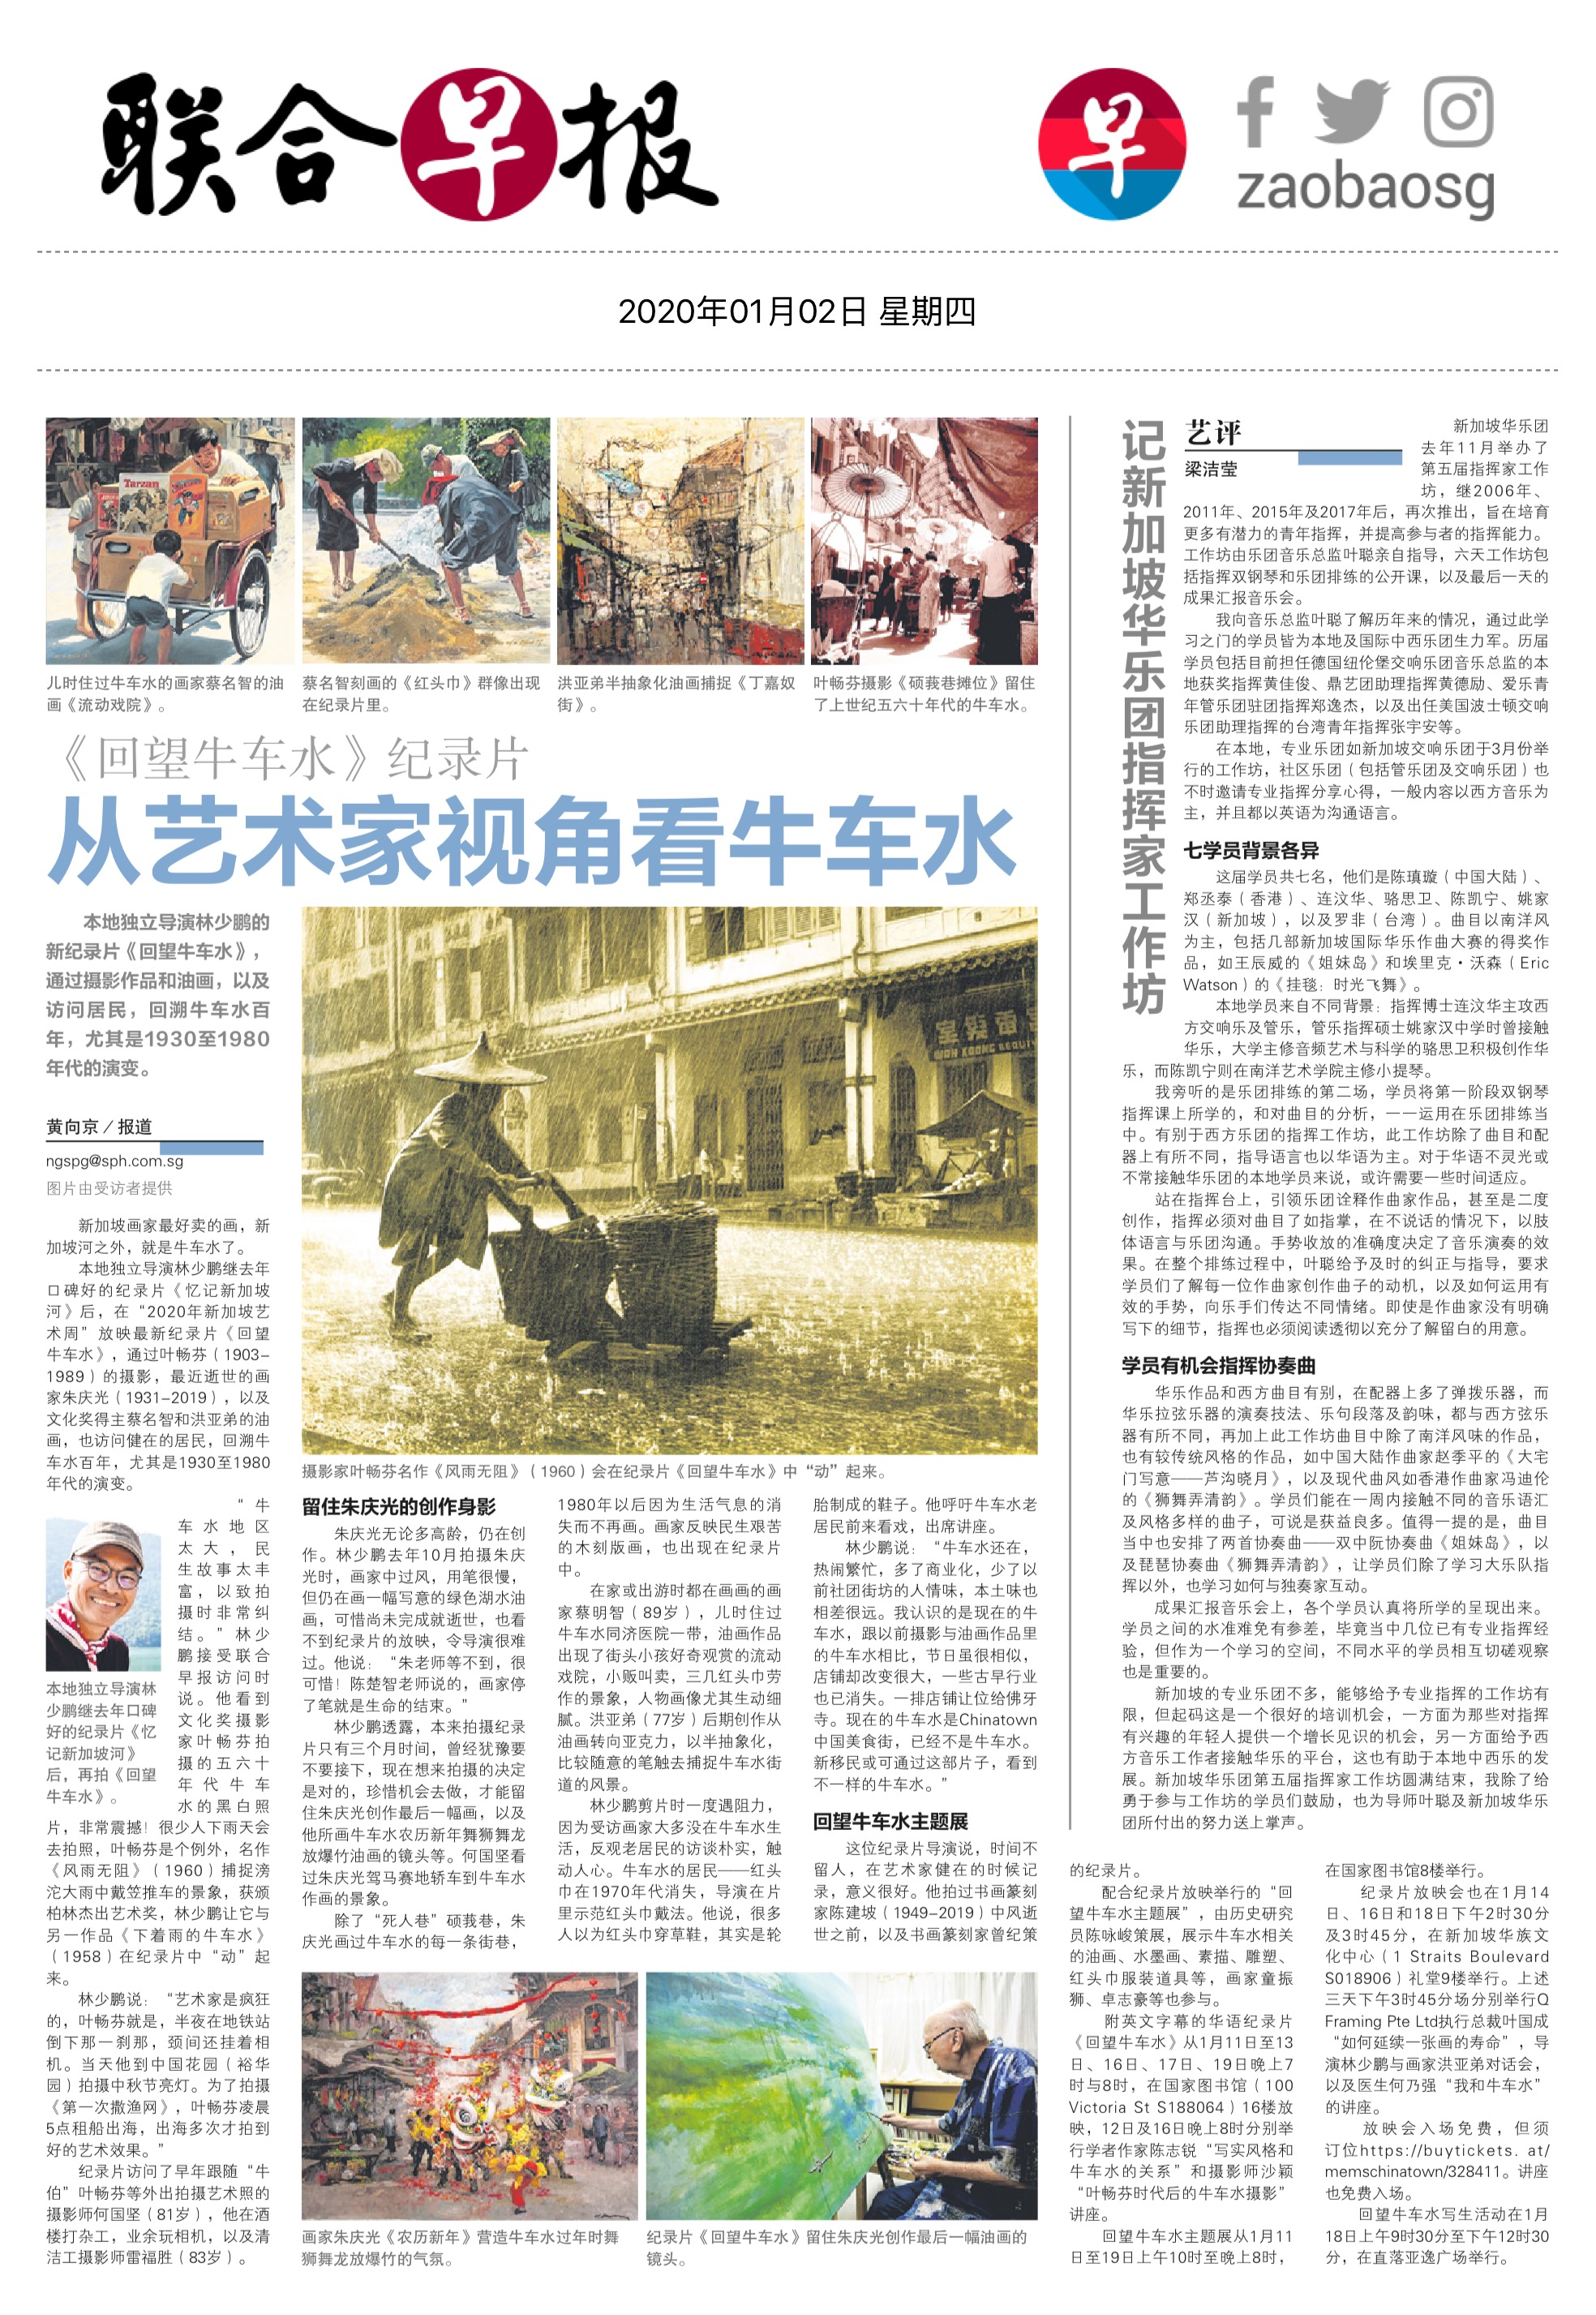heading: (42, 727, 1028, 894)
